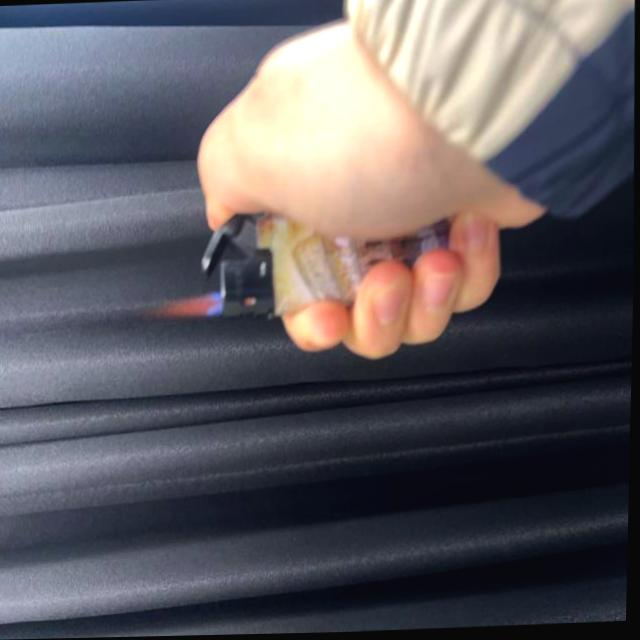Fire: (151, 289, 224, 327)
